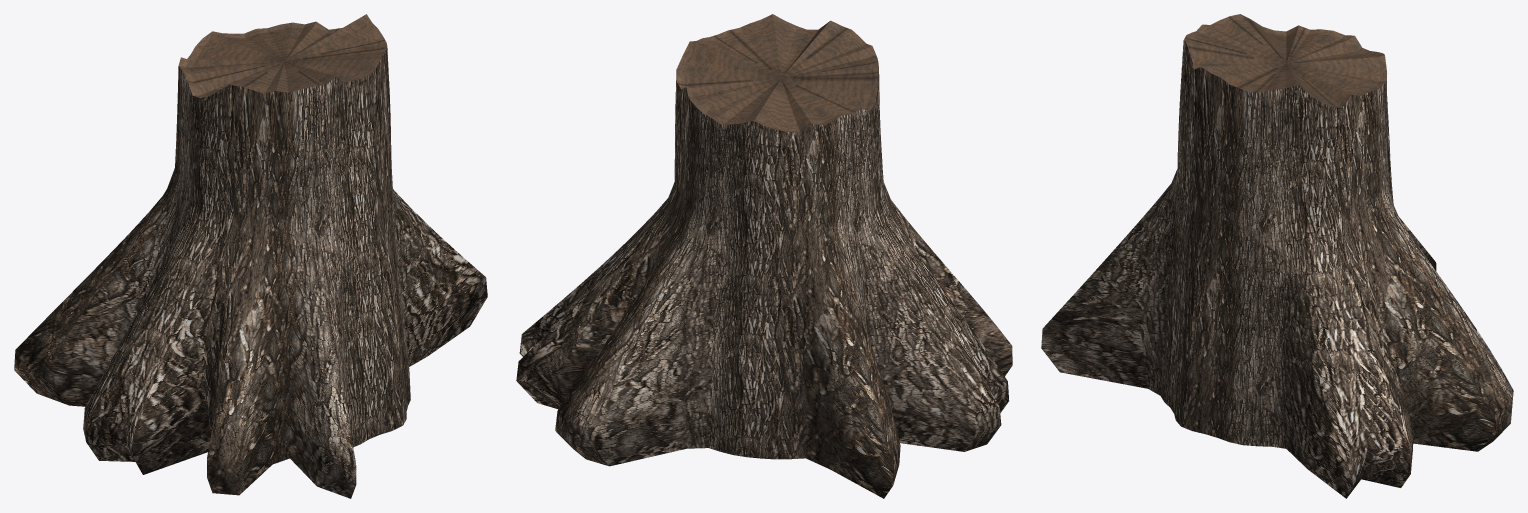
Rendered from mm6_deco_stump5a.glb.
The picture shows the model from 3 angles, left to right: view 1: azimuth 30°, elevation 25°; view 2: azimuth 150°, elevation 25°; view 3: azimuth 270°, elevation 25°; orthographic projection. The views are drawn at different scales.
Visible parts, largest first — view 1: Tree; view 2: Tree; view 3: Tree.
Boxes of the visible parts, x1,y1,x2,y2 form: Tree: [14, 14, 487, 498]; Tree: [516, 14, 1012, 498]; Tree: [1041, 14, 1513, 498].
Size of the model in its own units: 1.21 by 0.9317 by 1.13.
2 materials, 2 textured.
